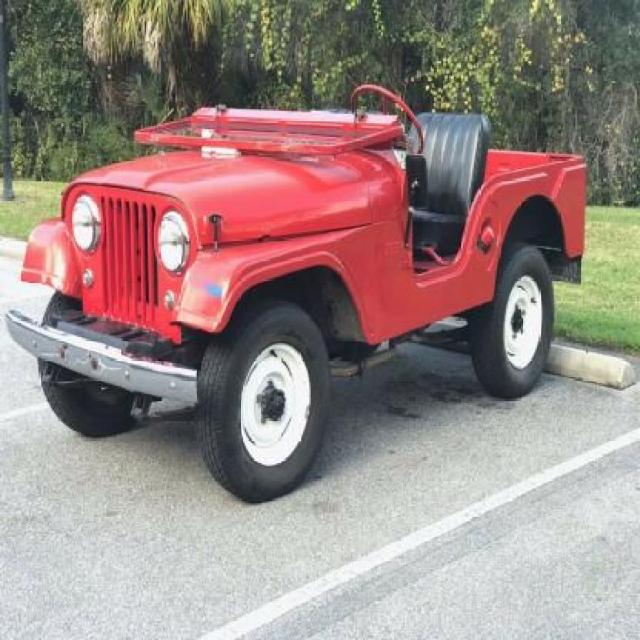Jeep: (1, 81, 588, 495)
